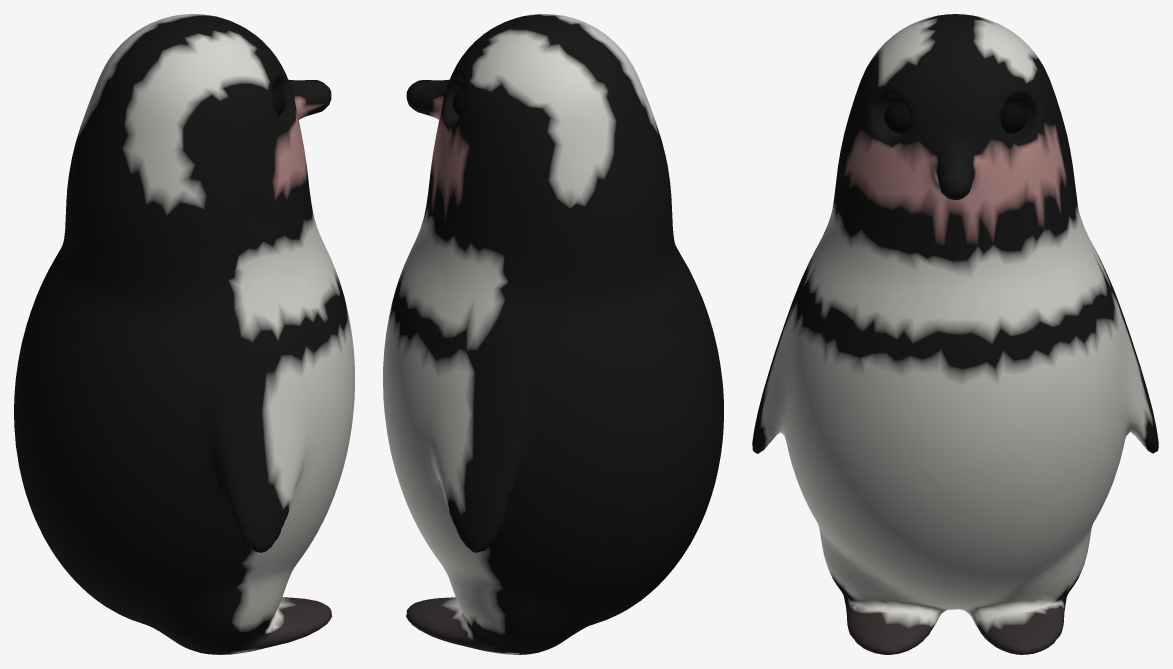
File: penguin.glb
3 renders of one model, left to right at view 1: azimuth 30°, elevation 25°; view 2: azimuth 150°, elevation 25°; view 3: azimuth 270°, elevation 25°, orthographic.
Parts seen in each view (by area): view 1: penguin; view 2: penguin; view 3: penguin.
Boxes of the visible parts, x1,y1,x2,y2 form: penguin: [14, 14, 354, 654]; penguin: [383, 14, 723, 654]; penguin: [752, 14, 1158, 654].
Bounding box in the file's own units: 0.31 × 0.6064 × 0.3761.
